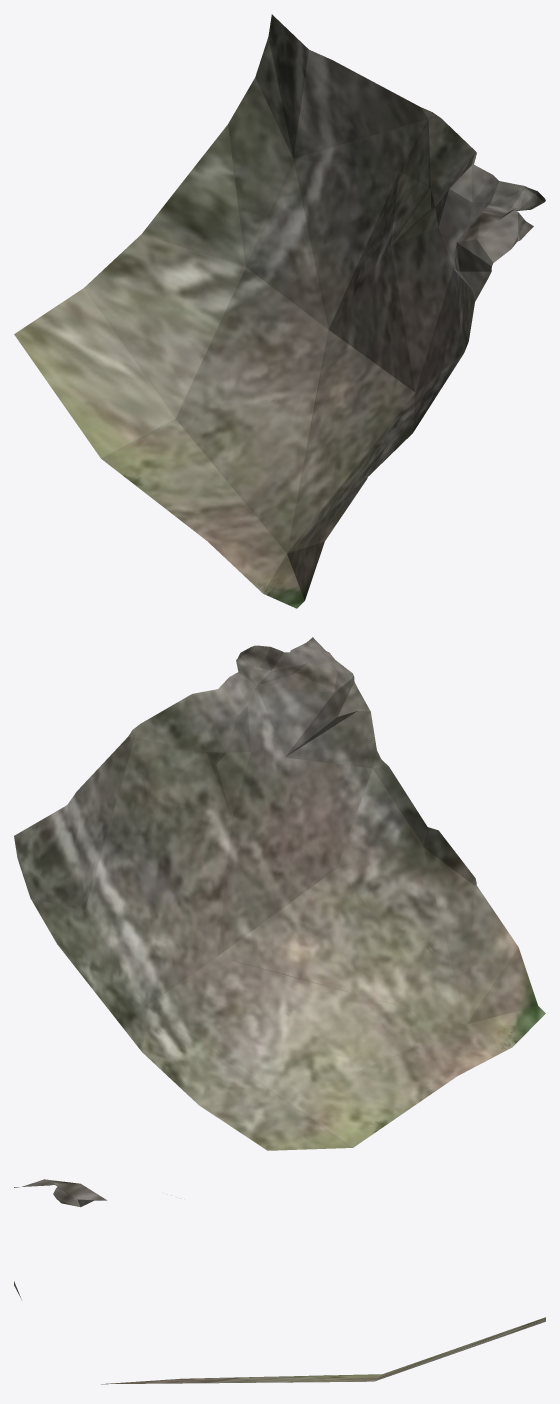
3 renders of one model, top to bottom at view 1: azimuth 30°, elevation 25°; view 2: azimuth 150°, elevation 25°; view 3: azimuth 270°, elevation 25°, orthographic. The views are drawn at different scales.
Bounding box in the file's own units: 3.35 × 3.84 × 5.9.
2 materials, 2 textured.
